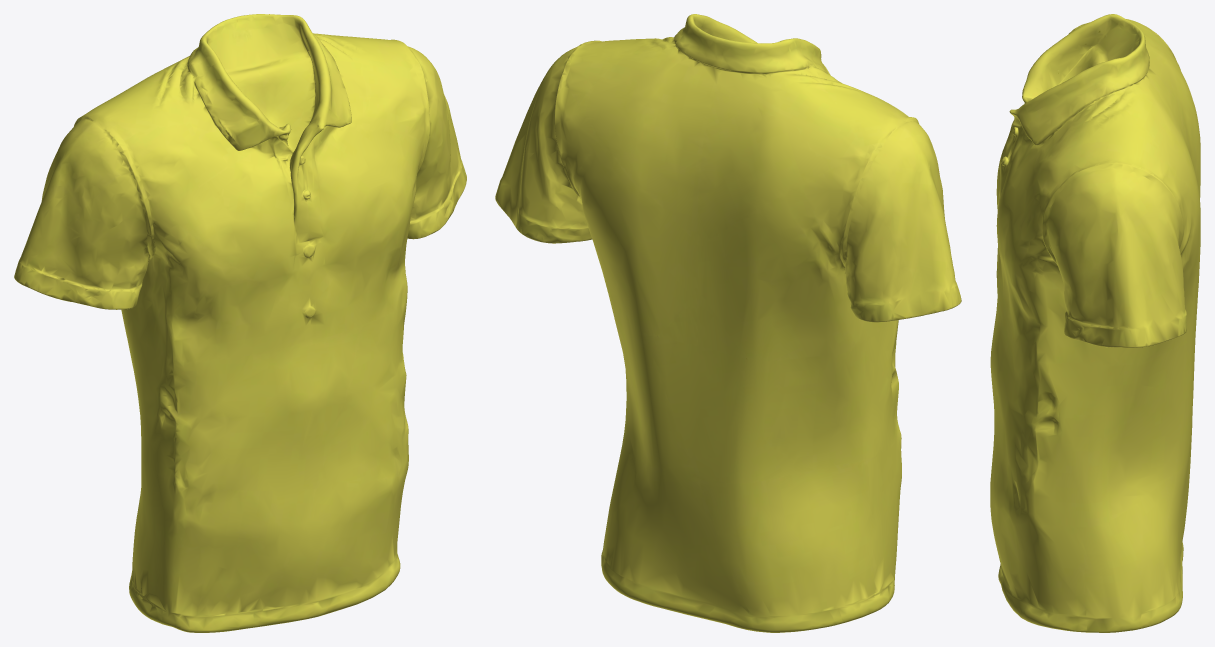
3 views of the same model, side by side, from view 1: azimuth 30°, elevation 25°; view 2: azimuth 150°, elevation 25°; view 3: azimuth 270°, elevation 25° (orthographic). The views are drawn at different scales.
Visible parts, largest first — view 1: tripo_node_b99832c3-6574-42e3-9a51-2b1276fa3b47; view 2: tripo_node_b99832c3-6574-42e3-9a51-2b1276fa3b47; view 3: tripo_node_b99832c3-6574-42e3-9a51-2b1276fa3b47.
Boxes of the visible parts, box(x1,y1,x2,y2) form: tripo_node_b99832c3-6574-42e3-9a51-2b1276fa3b47: box(14, 14, 466, 632); tripo_node_b99832c3-6574-42e3-9a51-2b1276fa3b47: box(495, 14, 961, 632); tripo_node_b99832c3-6574-42e3-9a51-2b1276fa3b47: box(990, 14, 1200, 632).
Bounding box in the file's own units: 0.845 × 0.9999 × 0.3512.
Materials: 1 (1 with a texture image).
